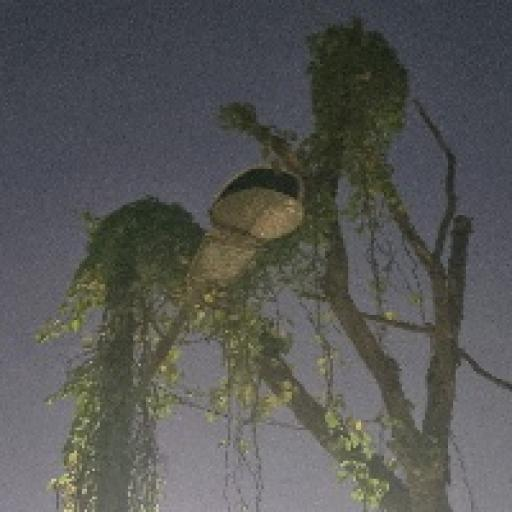Not Working: (164, 152, 312, 323)
